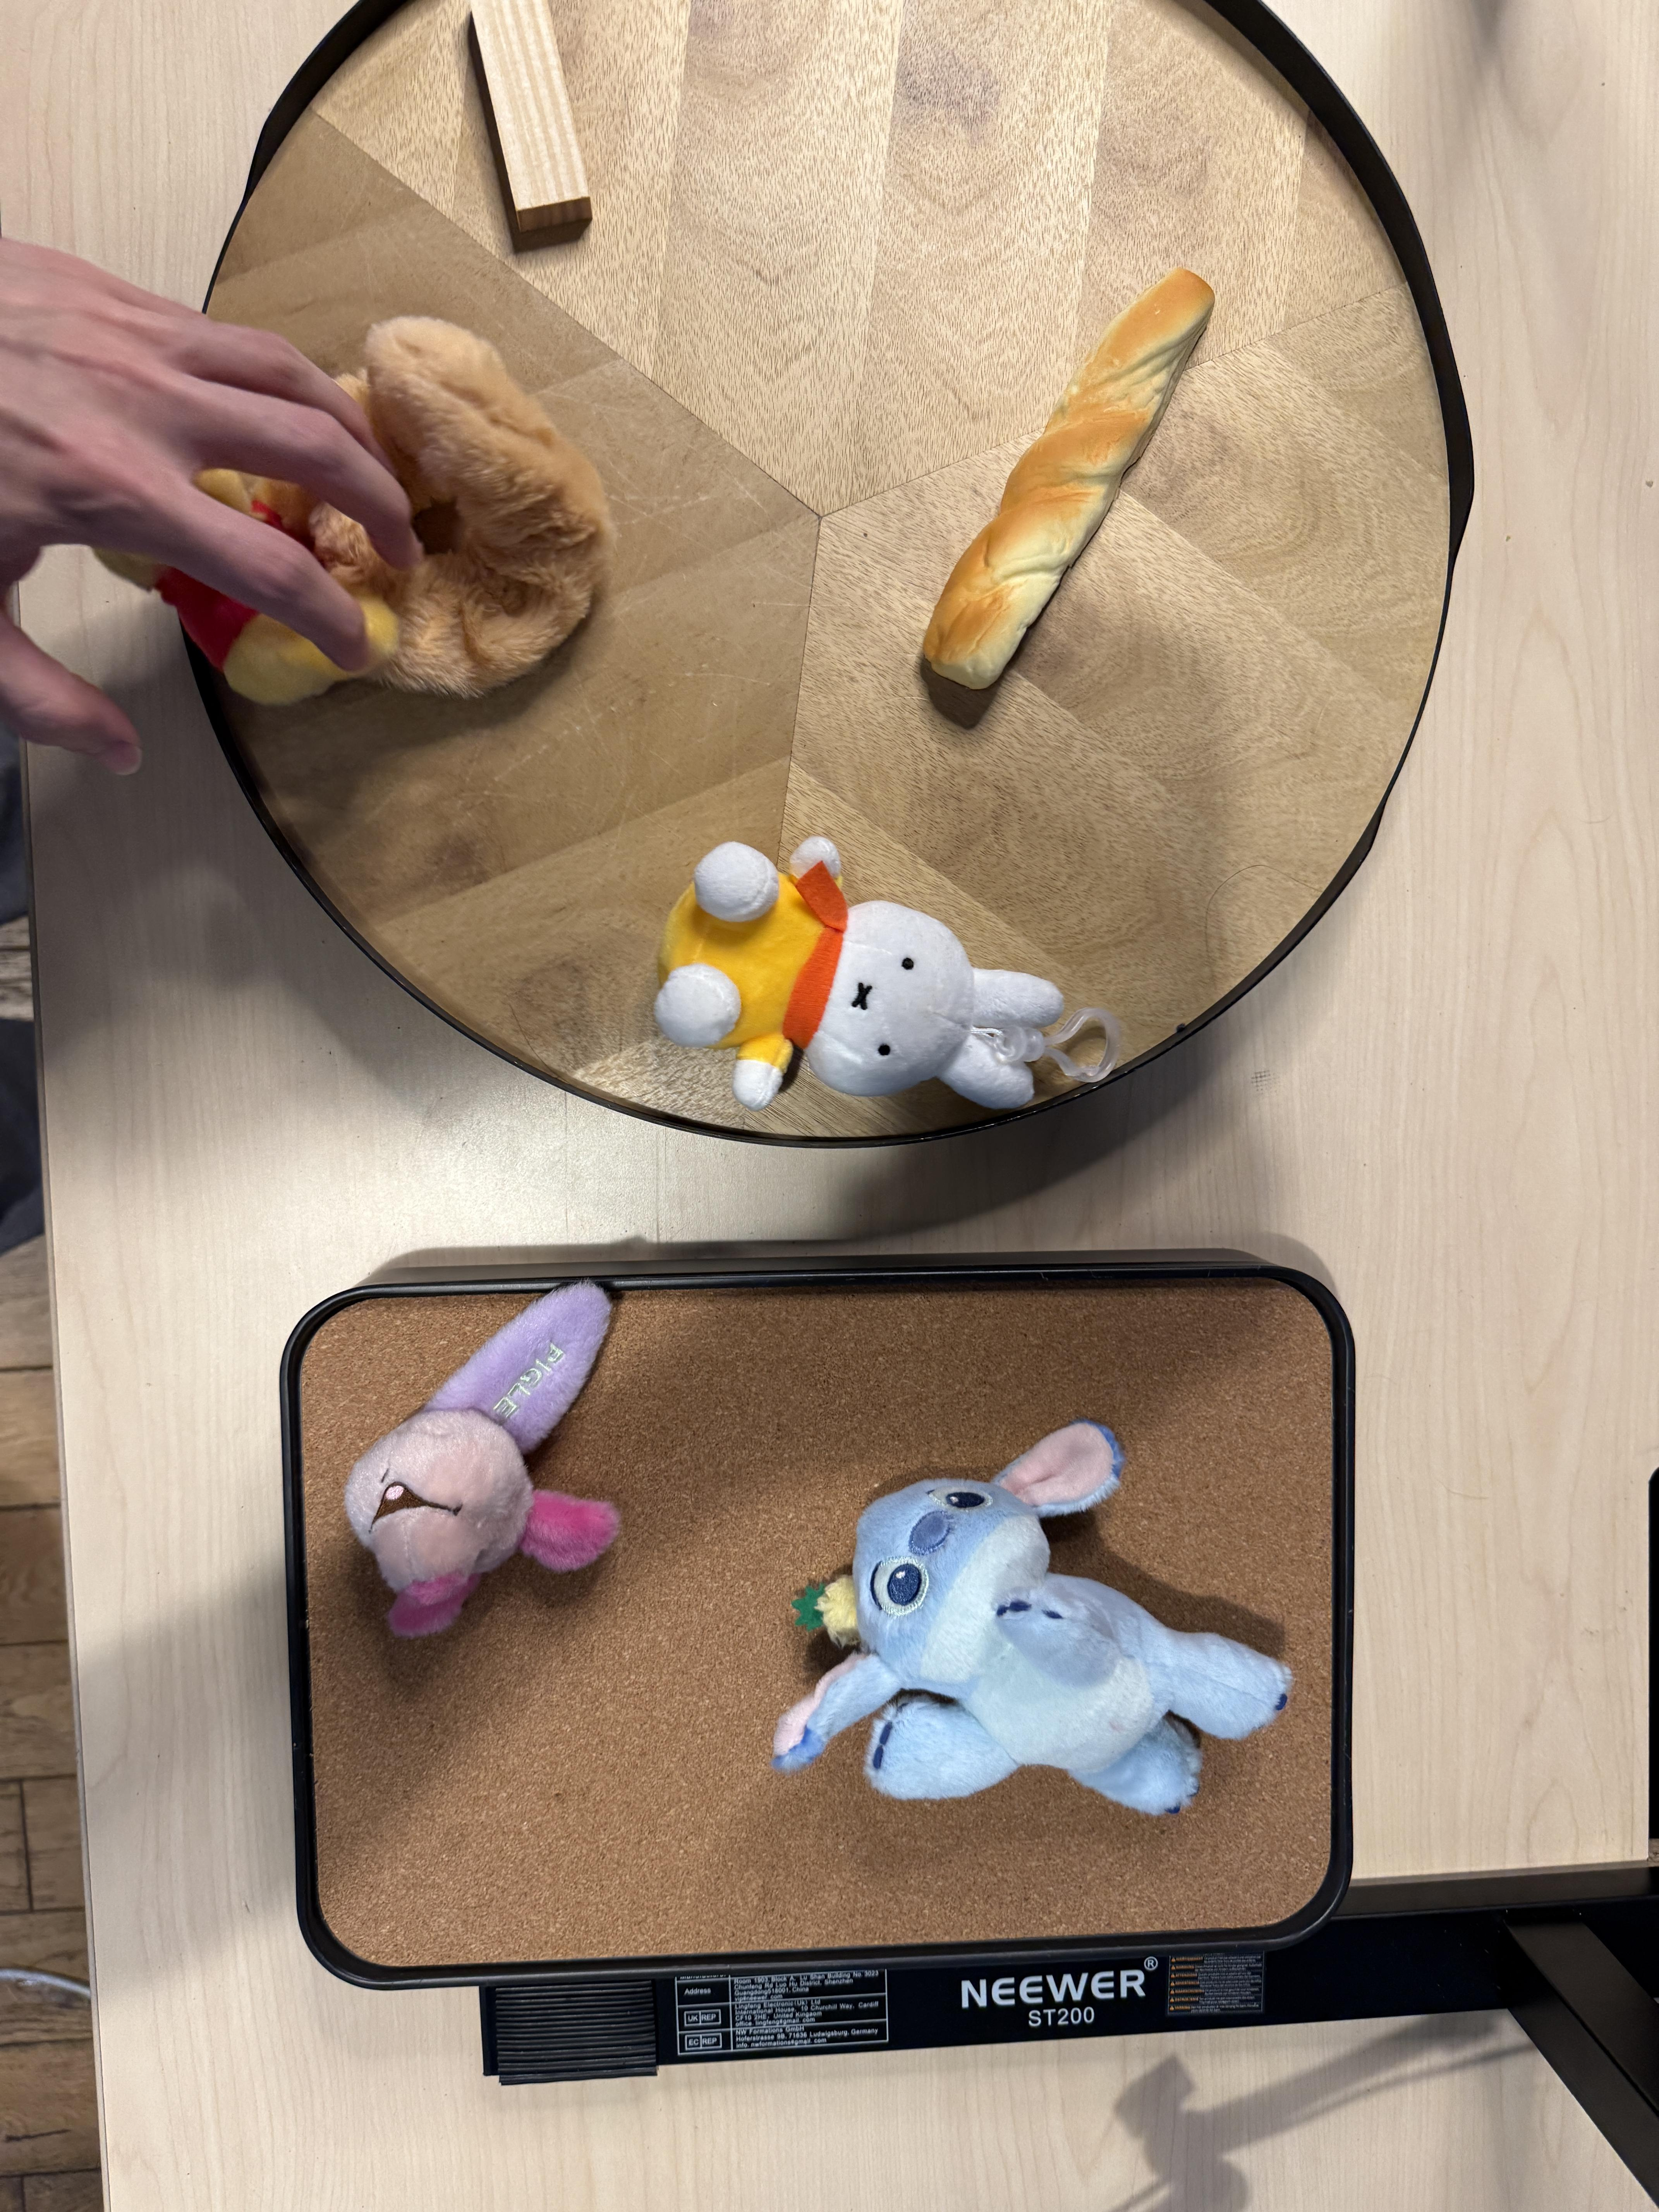block: (469, 0, 599, 223)
bread: (925, 272, 1220, 700)
doll: (779, 1421, 1295, 1818), (159, 317, 620, 697), (655, 829, 1072, 1136), (349, 1278, 629, 1639)
